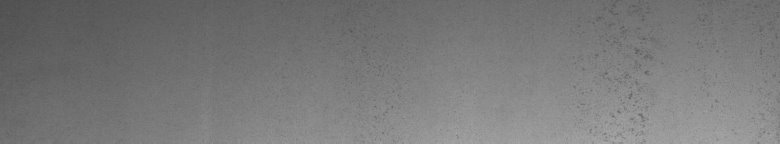ib: (577, 4, 654, 132)
